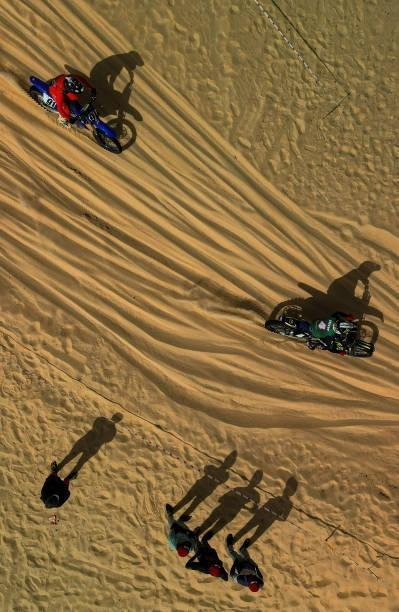Motorcycle: (26, 69, 144, 154), (258, 301, 380, 359)
